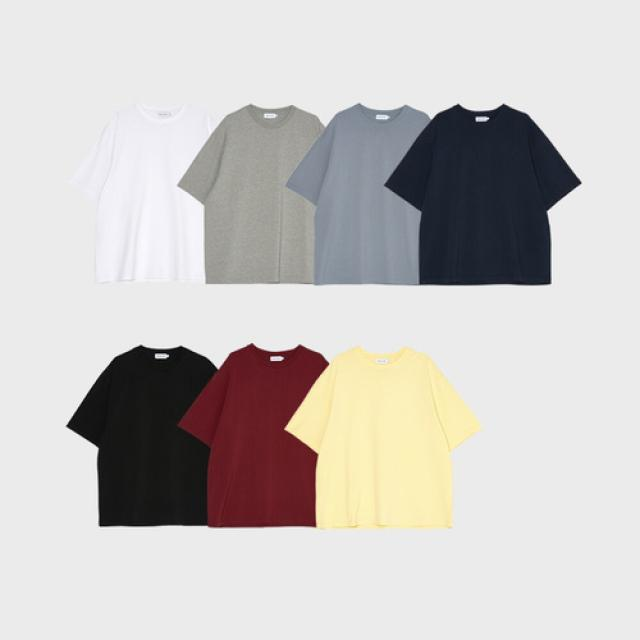Blouse_deep: (70, 106, 222, 284), (72, 347, 218, 526)
